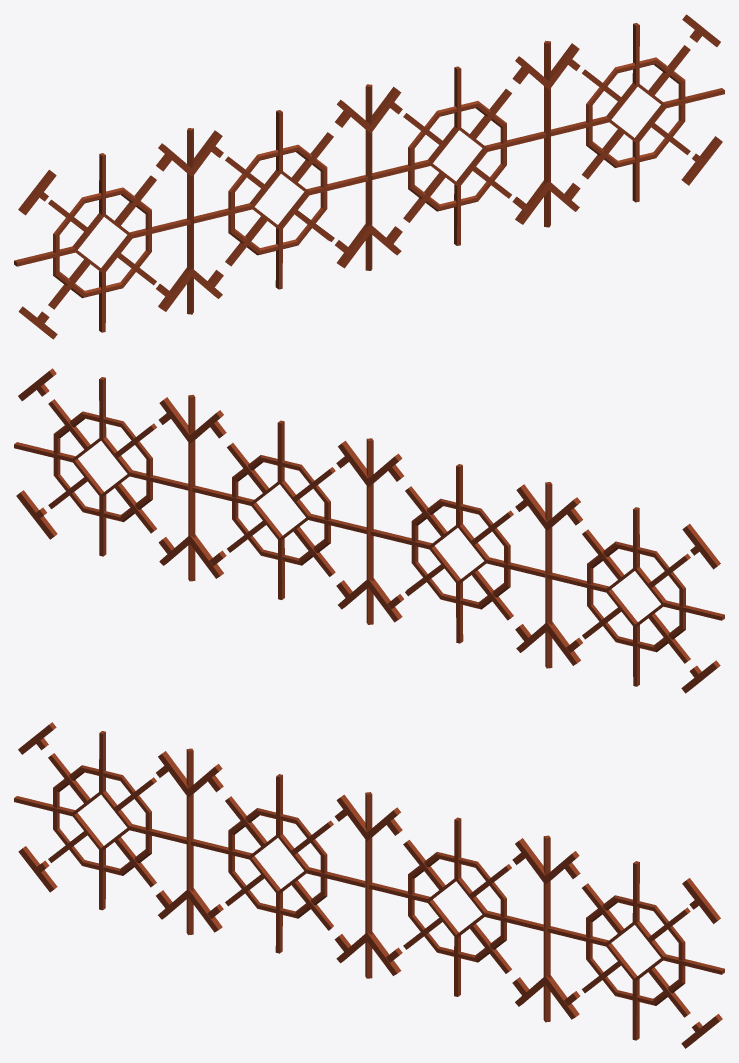
Rendered from ParteInterna.fbx.
3 renders of one model, top to bottom at view 1: azimuth 30°, elevation 25°; view 2: azimuth 150°, elevation 25°; view 3: azimuth 330°, elevation 25°, orthographic.
Visible parts, largest first — view 1: polySurface52; view 2: polySurface52; view 3: polySurface52.
Boxes of the visible parts, box(x1,y1,x2,y2) form: polySurface52: box(14, 14, 724, 339); polySurface52: box(14, 368, 724, 693); polySurface52: box(14, 722, 724, 1048).
Bounding box in the file's own units: 443 × 110 × 4.3.
